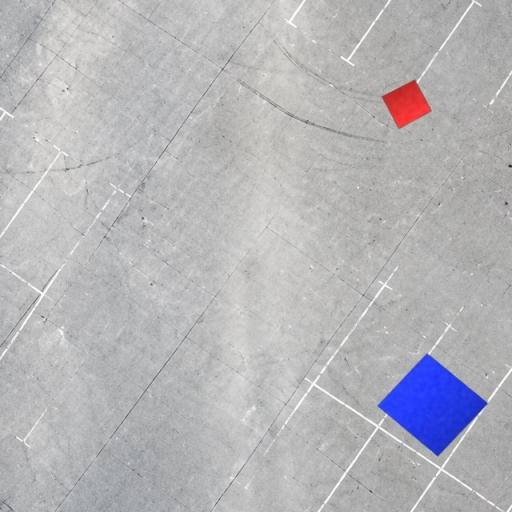BLUE_SQUARE: (377, 352, 489, 458)
RED_SQUARE: (381, 78, 432, 130)
